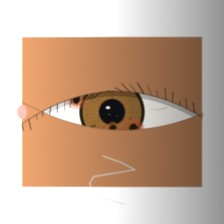foreign_body_visible: (95, 113, 131, 142)
